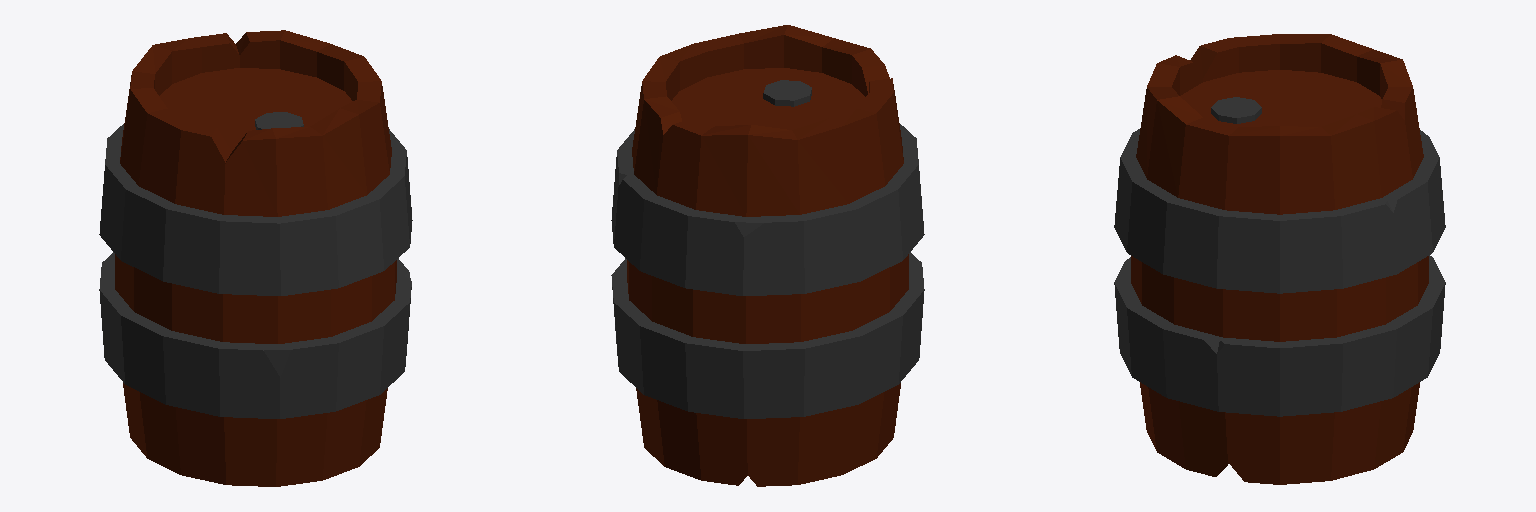
The model's file is oil_barrel_broken_big.obj.
3 views of the same model, side by side, from view 1: azimuth 30°, elevation 25°; view 2: azimuth 150°, elevation 25°; view 3: azimuth 270°, elevation 25° (orthographic).
Visible parts, largest first — view 1: Cylinder.011, Cylinder.010; view 2: Cylinder.011, Cylinder.010; view 3: Cylinder.011, Cylinder.010.
Boxes of the visible parts, x1=… form: Cylinder.011: x1=99, y1=30, x2=412, y2=486; Cylinder.010: x1=255, y1=112, x2=303, y2=129; Cylinder.011: x1=611, y1=25, x2=924, y2=486; Cylinder.010: x1=763, y1=80, x2=811, y2=106; Cylinder.011: x1=1114, y1=34, x2=1445, y2=484; Cylinder.010: x1=1211, y1=97, x2=1261, y2=123.
Size of the model in its own units: 2.34 by 2.92 by 2.49.